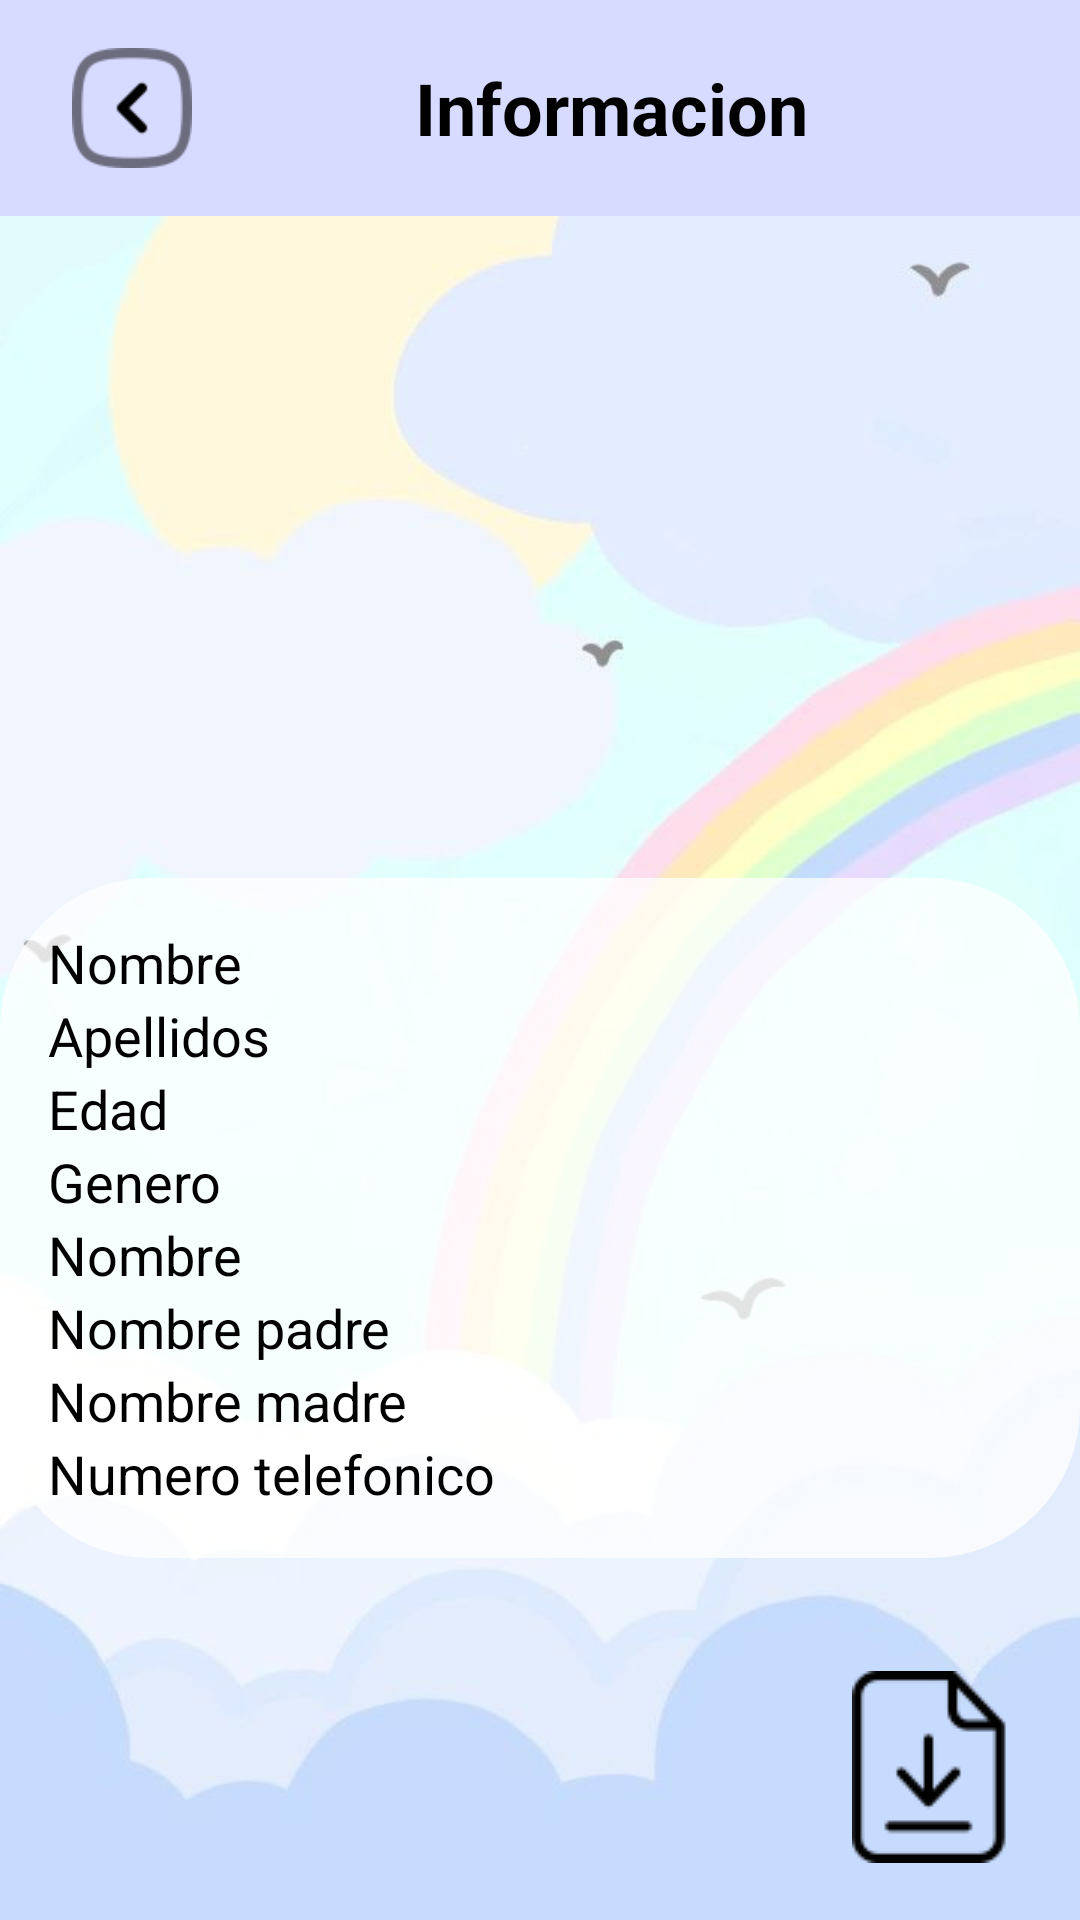

Where to tap for icons on this 1080px×1920px app screen, as (x=x, y=y):
flecha regresar: (x=132, y=108)
